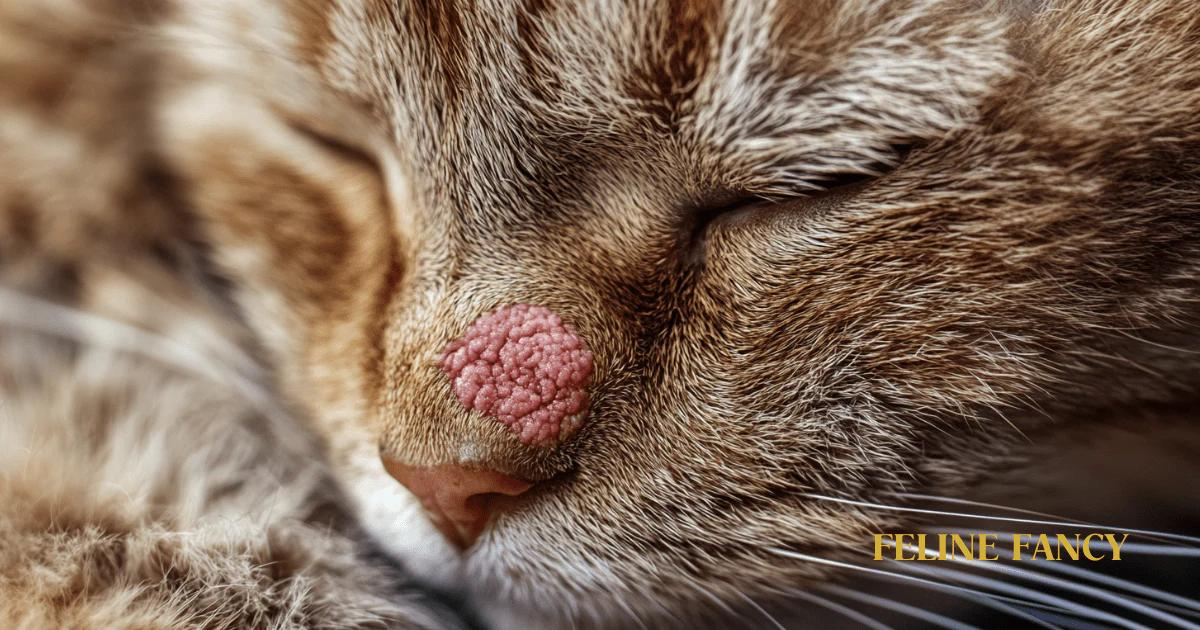lump_and_bump: (448, 302, 591, 447)
